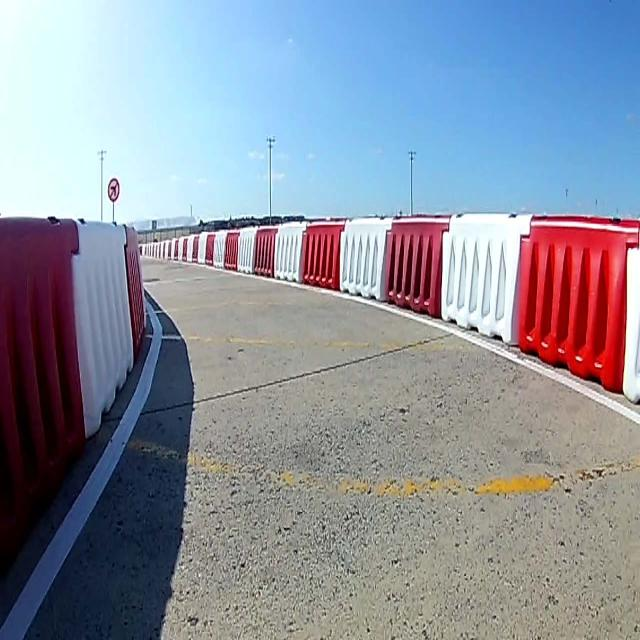soladonulmez: (108, 177, 120, 203)
